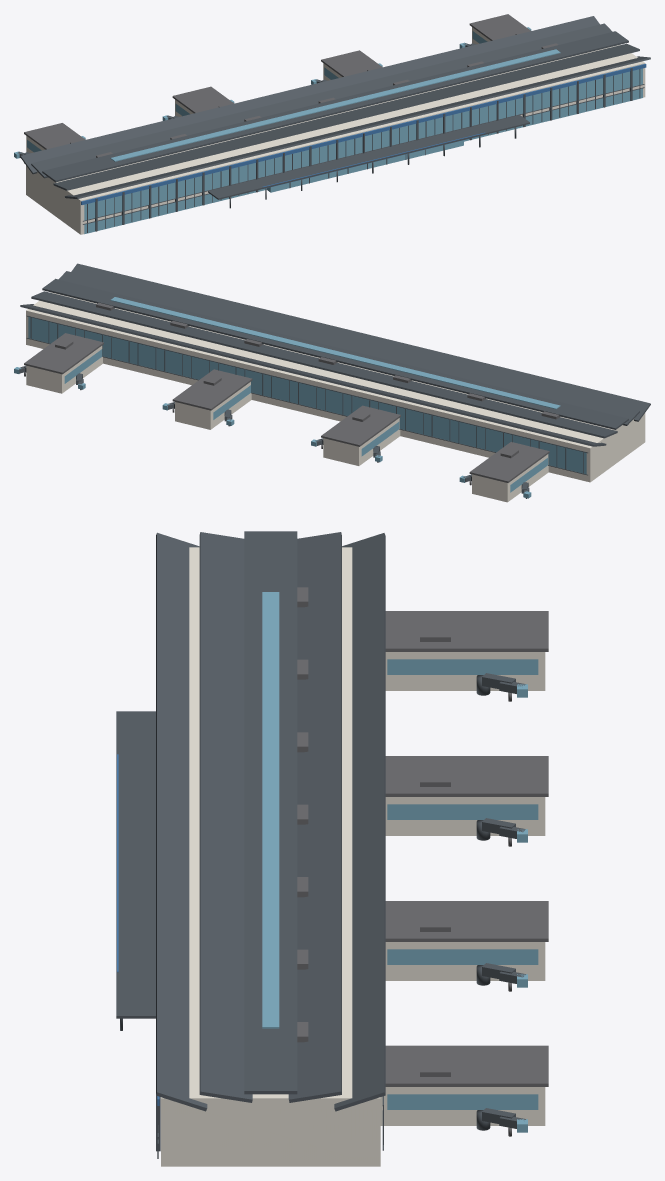
File: airport_terminal.glb
The picture shows the model from 3 angles, top to bottom: view 1: azimuth 30°, elevation 25°; view 2: azimuth 150°, elevation 25°; view 3: azimuth 270°, elevation 25°; orthographic projection. The views are drawn at different scales.
Visible parts, largest first — view 1: Merged_TowerMetal, Merged_FacadeGlass, Merged_FacadeMain, Merged_RoofDark, Merged_CityAccentBlue; view 2: Merged_TowerMetal, Merged_FacadeMain, Merged_FacadeGlass, Merged_RoofDark; view 3: Merged_TowerMetal, Merged_FacadeMain, Merged_RoofDark, Merged_FacadeGlass.
Boxes of the visible parts, left/top/right/bottom form: Merged_TowerMetal: left=17, top=16, right=650, bottom=232; Merged_FacadeGlass: left=14, top=27, right=642, bottom=234; Merged_FacadeMain: left=26, top=27, right=645, bottom=234; Merged_RoofDark: left=24, top=14, right=558, bottom=163; Merged_CityAccentBlue: left=81, top=64, right=646, bottom=204; Merged_TowerMetal: left=19, top=263, right=650, bottom=493; Merged_FacadeMain: left=26, top=292, right=645, bottom=502; Merged_FacadeGlass: left=14, top=297, right=586, bottom=498; Merged_RoofDark: left=24, top=302, right=559, bottom=498; Merged_TowerMetal: left=116, top=531, right=525, bottom=1158; Merged_FacadeMain: left=161, top=547, right=545, bottom=1166; Merged_RoofDark: left=297, top=587, right=548, bottom=1136; Merged_FacadeGlass: left=262, top=592, right=538, bottom=1132.
Size of the model in its own units: 386 by 26.25 by 126.
